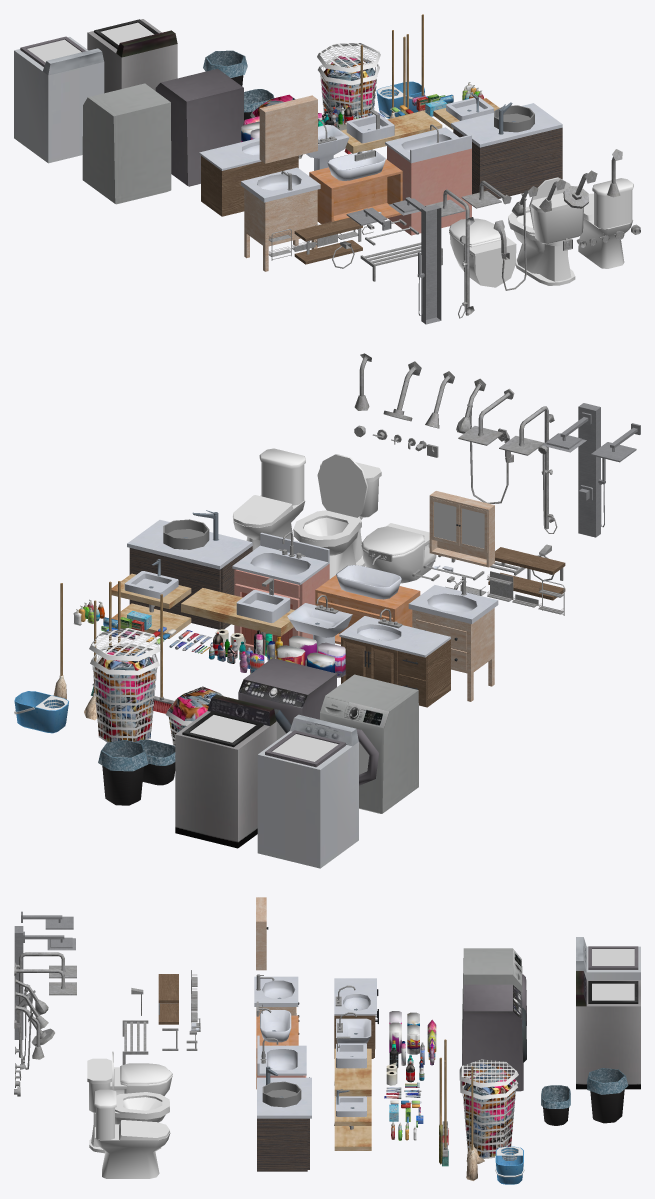
Rendered from bath-hygiene.glb.
The picture shows the model from 3 angles, top to bottom: view 1: azimuth 30°, elevation 25°; view 2: azimuth 150°, elevation 25°; view 3: azimuth 270°, elevation 25°; orthographic projection. The views are drawn at different scales.
Parts seen in each view (by area): view 1: Washing_machine_01, Washing_machine_03, Washbasin, Washing_machine, Washbasin_01, Washbasin_03, Washbasin_02, Toilet_01, Washbasin_07, Washing_machine_02, Bathroom_cabinet, Toilet (+23 smaller); view 2: Washing_machine_03, Washing_machine_02, Washing_machine_01, Washbasin, Washbasin_01, Washbasin_03, Washbasin_02, Washing_machine, Washbasin_07, Dirty _clothes, Washbasin_05, Watering_can_06 (+28 smaller); view 3: Washing_machine_02, Washbasin, Washing_machine, Toilet, Dirty _clothes, Washing_machine_01, Basket, Washbasin_04, Washbasin_05, Toilet_01, Washbasin_07, Trash_can_01 (+24 smaller).
Part boxes in pixels (left/top/right/bottom): Washing_machine_01: left=82, top=83, right=171, bottom=204; Washing_machine_03: left=14, top=37, right=104, bottom=163; Washbasin: left=451, top=102, right=562, bottom=198; Washing_machine: left=155, top=68, right=243, bottom=186; Washbasin_01: left=385, top=124, right=471, bottom=235; Washbasin_03: left=241, top=167, right=320, bottom=271; Washbasin_02: left=309, top=150, right=402, bottom=224; Toilet_01: left=508, top=193, right=583, bottom=285; Washbasin_07: left=199, top=138, right=298, bottom=216; Washing_machine_02: left=87, top=19, right=177, bottom=93; Bathroom_cabinet: left=259, top=95, right=317, bottom=163; Toilet: left=578, top=178, right=633, bottom=268; Washing_machine_03: left=257, top=714, right=358, bottom=868; Washing_machine_02: left=175, top=694, right=276, bottom=848; Washing_machine_01: left=320, top=674, right=418, bottom=813; Washbasin: left=127, top=512, right=252, bottom=629; Washbasin_01: left=232, top=531, right=329, bottom=655; Washbasin_03: left=408, top=578, right=498, bottom=701; Washbasin_02: left=315, top=549, right=420, bottom=644; Washing_machine: left=238, top=658, right=336, bottom=724; Washbasin_07: left=339, top=608, right=450, bottom=707; Dirty _clothes: left=93, top=646, right=155, bottom=742; Washbasin_05: left=181, top=578, right=294, bottom=640; Watering_can_06: left=542, top=403, right=605, bottom=537; Washing_machine_02: left=576, top=971, right=640, bottom=1089; Washbasin: left=257, top=1068, right=311, bottom=1171; Washing_machine: left=462, top=984, right=523, bottom=1091; Toilet: left=94, top=1089, right=170, bottom=1178; Dirty _clothes: left=464, top=1074, right=514, bottom=1157; Washing_machine_01: left=462, top=948, right=522, bottom=1053; Basket: left=460, top=1072, right=517, bottom=1158; Washbasin_04: left=334, top=1090, right=371, bottom=1150; Washbasin_05: left=334, top=1036, right=371, bottom=1096; Toilet_01: left=87, top=1058, right=169, bottom=1153; Washbasin_07: left=334, top=978, right=376, bottom=1058; Trash_can_01: left=587, top=1068, right=628, bottom=1123.
Bounding box in the file's own units: 4.92 × 2.25 × 8.15.
28 materials, 26 textured.
